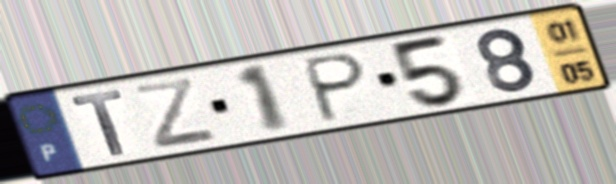1: (235, 60, 292, 137)
5: (386, 30, 469, 111)
8: (474, 26, 541, 95)
P: (301, 50, 371, 127)
T: (67, 87, 129, 159)
Z: (129, 75, 223, 151)
